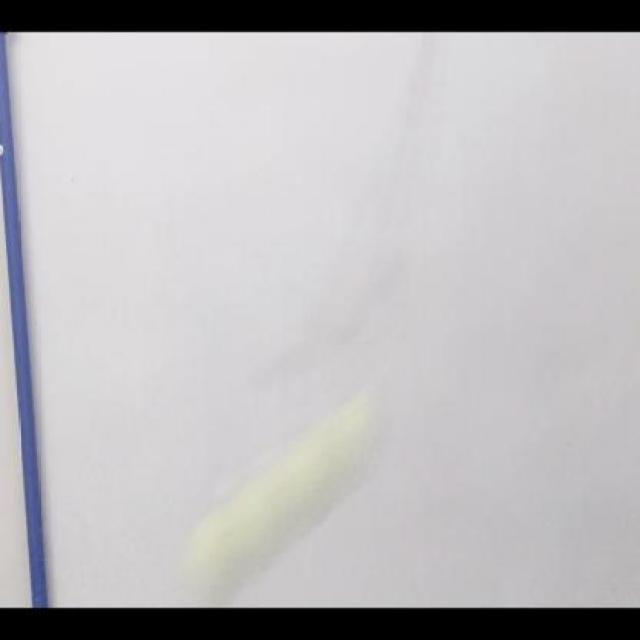baseball: (181, 409, 368, 600)
